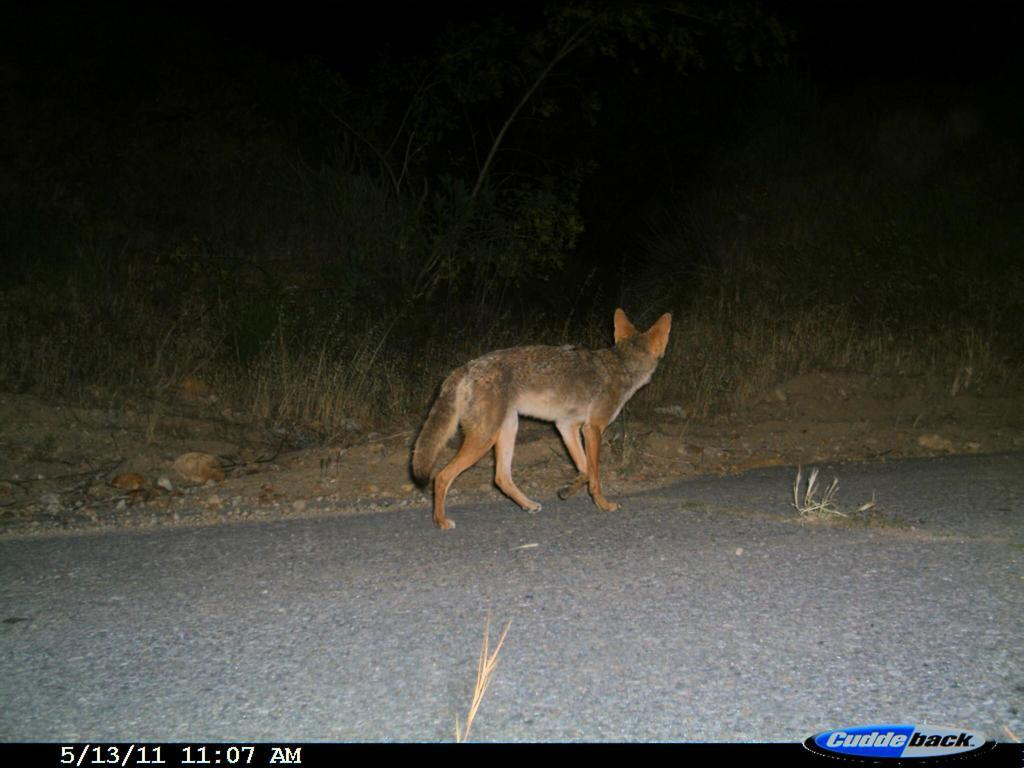coyote: (405, 304, 683, 536)
